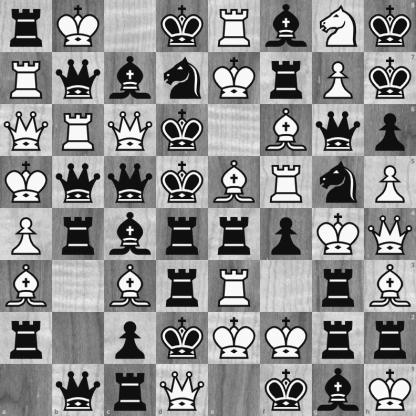B: (364, 260, 416, 312), (1, 261, 52, 312), (105, 261, 156, 312), (209, 157, 260, 208), (261, 105, 312, 156)
K: (364, 364, 416, 416), (1, 157, 52, 208), (53, 1, 104, 52), (209, 53, 260, 104), (209, 313, 260, 364), (261, 313, 312, 364), (313, 209, 364, 260)
N: (313, 1, 364, 52)
P: (364, 156, 416, 209), (1, 209, 52, 260), (313, 53, 364, 104)
Q: (156, 364, 209, 416), (364, 209, 416, 260), (1, 105, 52, 156), (105, 105, 156, 156)
R: (1, 53, 52, 104), (53, 105, 104, 156), (209, 1, 260, 52), (209, 261, 260, 312), (261, 157, 312, 208)
b: (312, 364, 364, 416), (105, 53, 156, 104), (105, 209, 156, 260), (261, 1, 312, 52)
board: (0, 0, 415, 415)
k: (260, 364, 312, 416), (364, 0, 416, 52), (364, 52, 416, 104), (157, 1, 208, 52), (157, 105, 208, 156), (157, 157, 208, 208), (157, 313, 208, 364)
n: (157, 53, 208, 104), (313, 157, 364, 208)
p: (364, 104, 416, 156), (105, 313, 156, 364), (261, 209, 312, 260)
q: (52, 364, 104, 416), (53, 53, 104, 104), (53, 157, 104, 208), (105, 157, 156, 208), (313, 105, 364, 156)
r: (104, 364, 156, 416), (364, 312, 416, 364), (1, 1, 52, 52), (1, 313, 52, 364), (53, 209, 104, 260), (157, 209, 208, 260), (157, 261, 208, 312), (209, 209, 260, 260), (261, 53, 312, 104), (313, 261, 364, 312), (313, 313, 364, 364)
